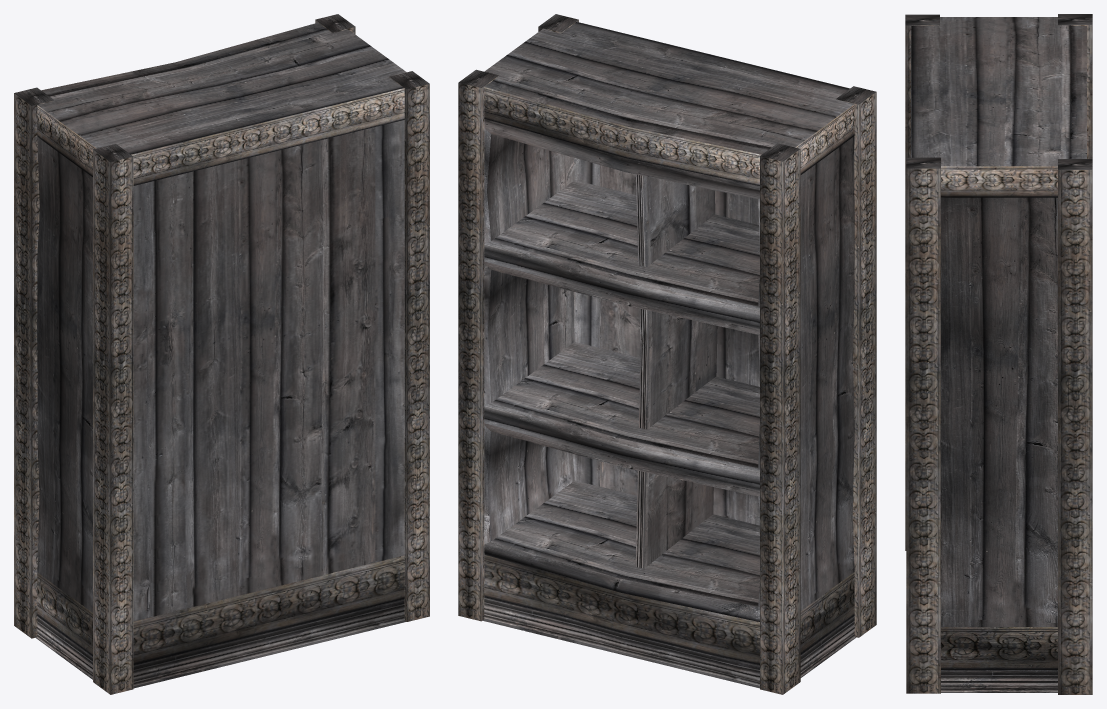
Rendered from tavern_shelf2.fbx.
3 views of the same model, side by side, from view 1: azimuth 30°, elevation 25°; view 2: azimuth 150°, elevation 25°; view 3: azimuth 270°, elevation 25° (orthographic).
Visible parts, largest first — view 1: Default_Layer; view 2: Default_Layer; view 3: Default_Layer.
Boxes of the visible parts, x1,y1,x2,y2 form: Default_Layer: (14, 14, 429, 694); Default_Layer: (458, 14, 876, 694); Default_Layer: (905, 14, 1092, 694).
Bounding box in the file's own units: 319 × 503 × 162.
1 material, 1 textured.
